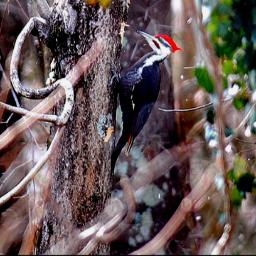Woodpecker: (110, 29, 186, 177)
